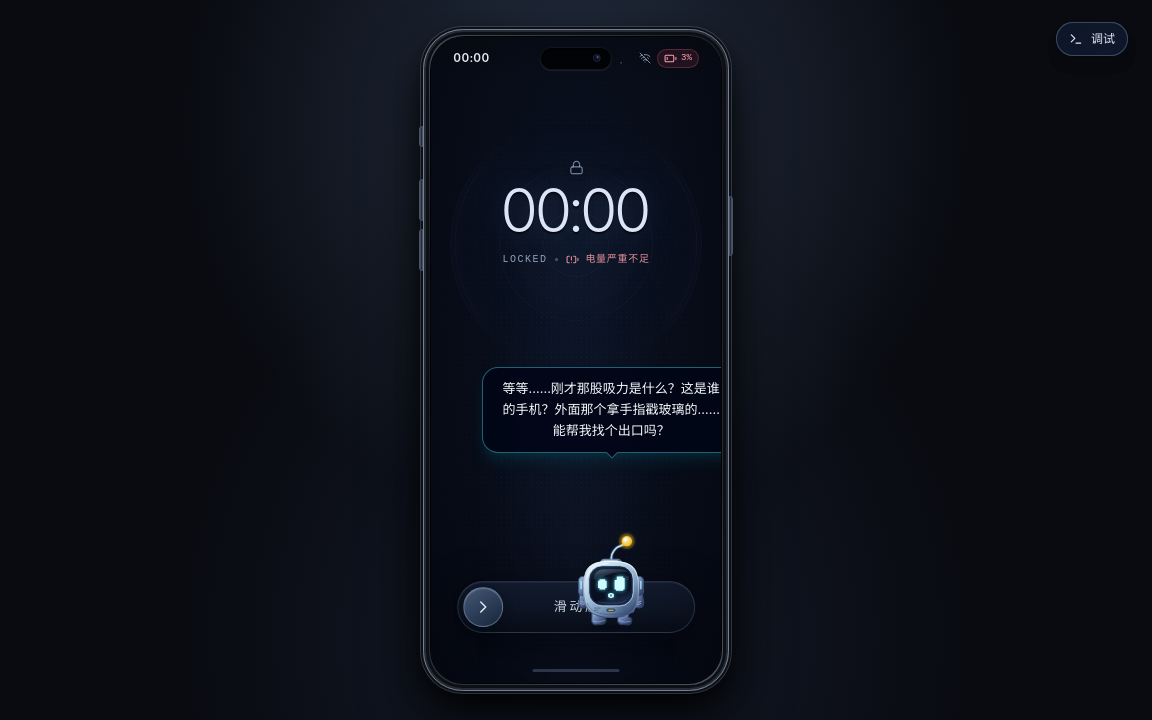
Test: PhoneOS pet pointer gestures › pokes once for a quick primary click within the drag threshold
The image size is (1152, 720).
(page scrolled)
Press the mouse on the button with test id "pet-hitbox" at coordinates (611, 582), box [572, 535, 651, 629]
Wait 120 ms
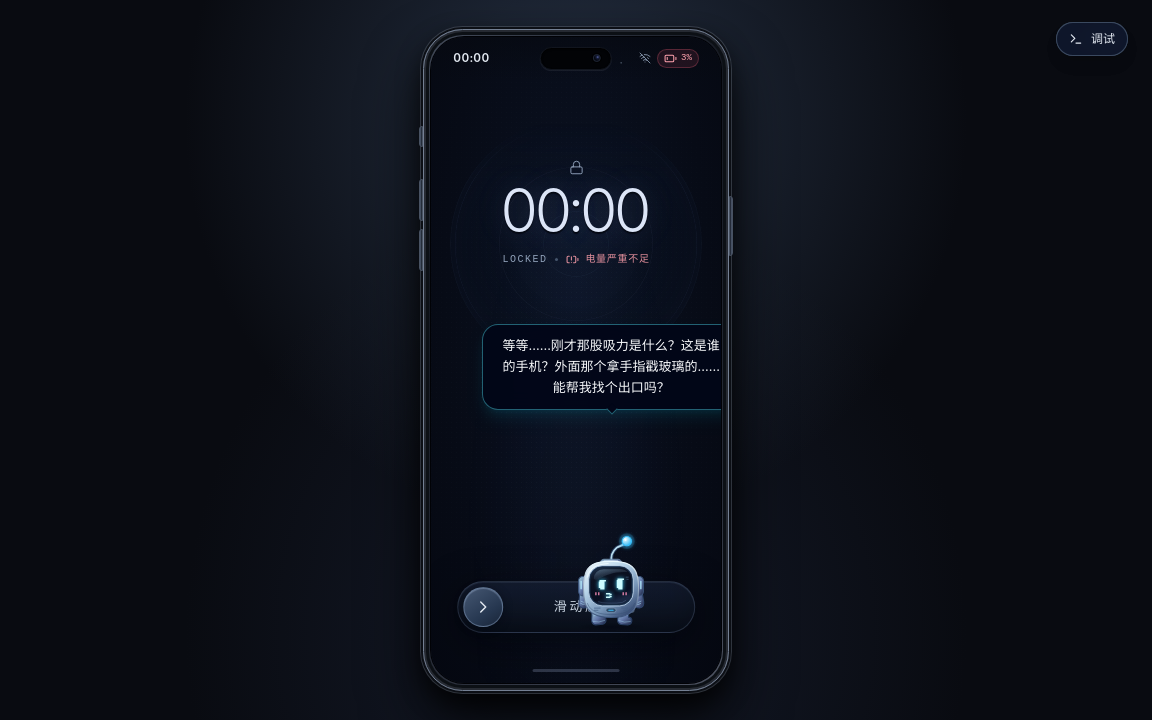
Click the button with test id "pet-hitbox" at coordinates (611, 582), box [572, 535, 651, 629]
Wait 350 ms
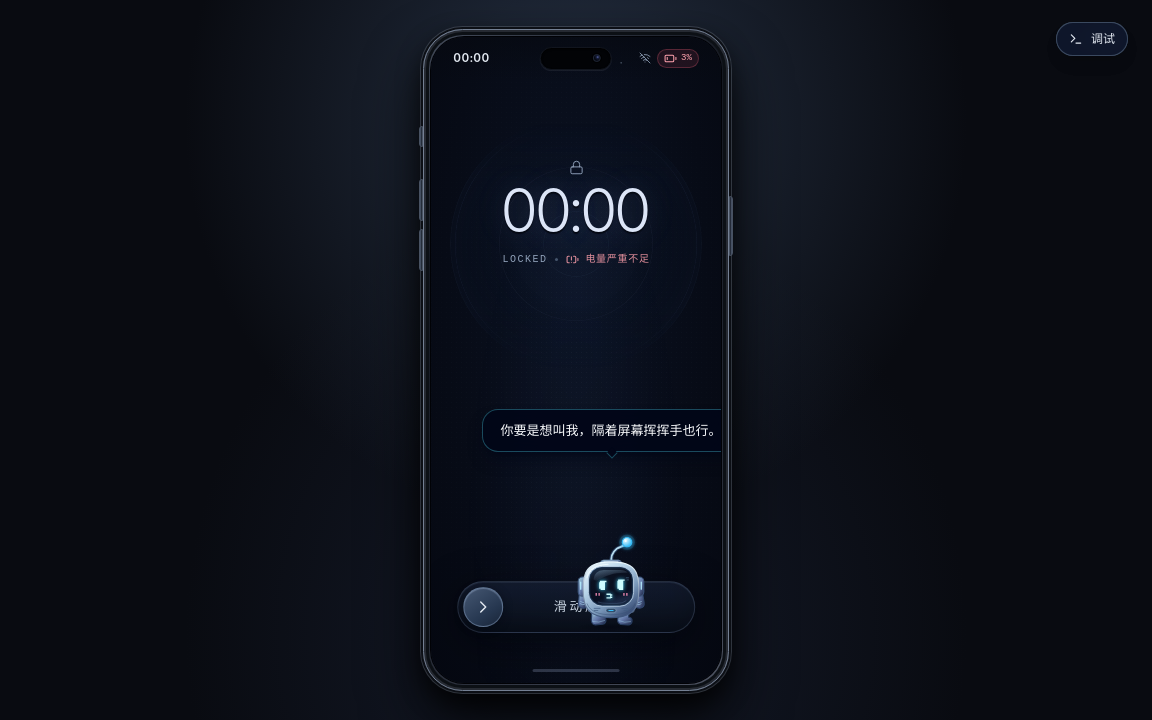
Now the message with test id "pet-bubble" reads "你要是想叫我，隔着屏幕挥挥手也行。", box [501, 422, 721, 438]
